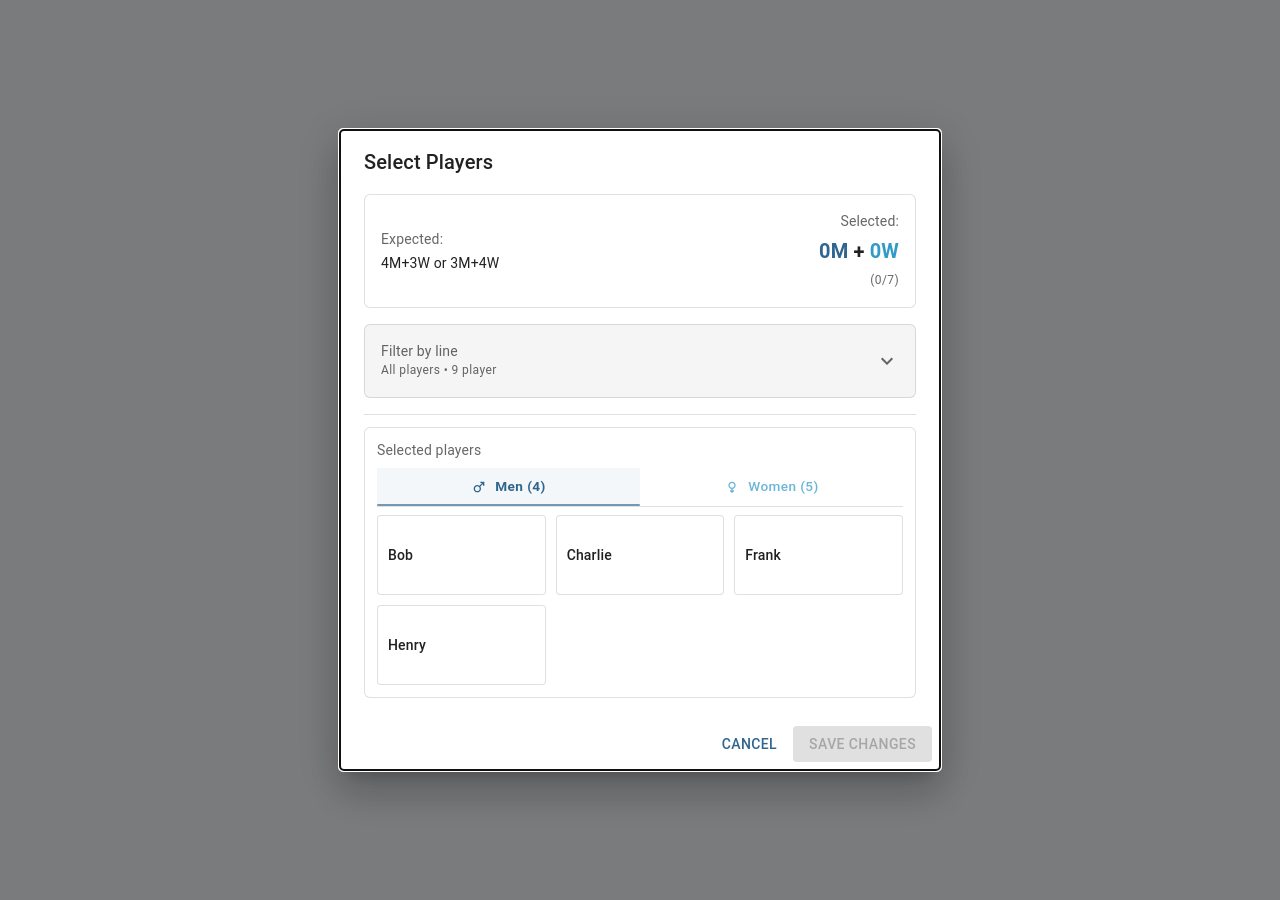
ManagePlayersDialog › Player Selection › allows toggling player selection
The image size is (1280, 900).
Expected: the text "(0/7)" is shown, x1=870 y1=273 x2=899 y2=287
# Click Bob to select (click the text which is part of ListItemButton)
Click the button "Bob".
click(461, 555)  # box x1=378 y1=516 x2=545 y2=594
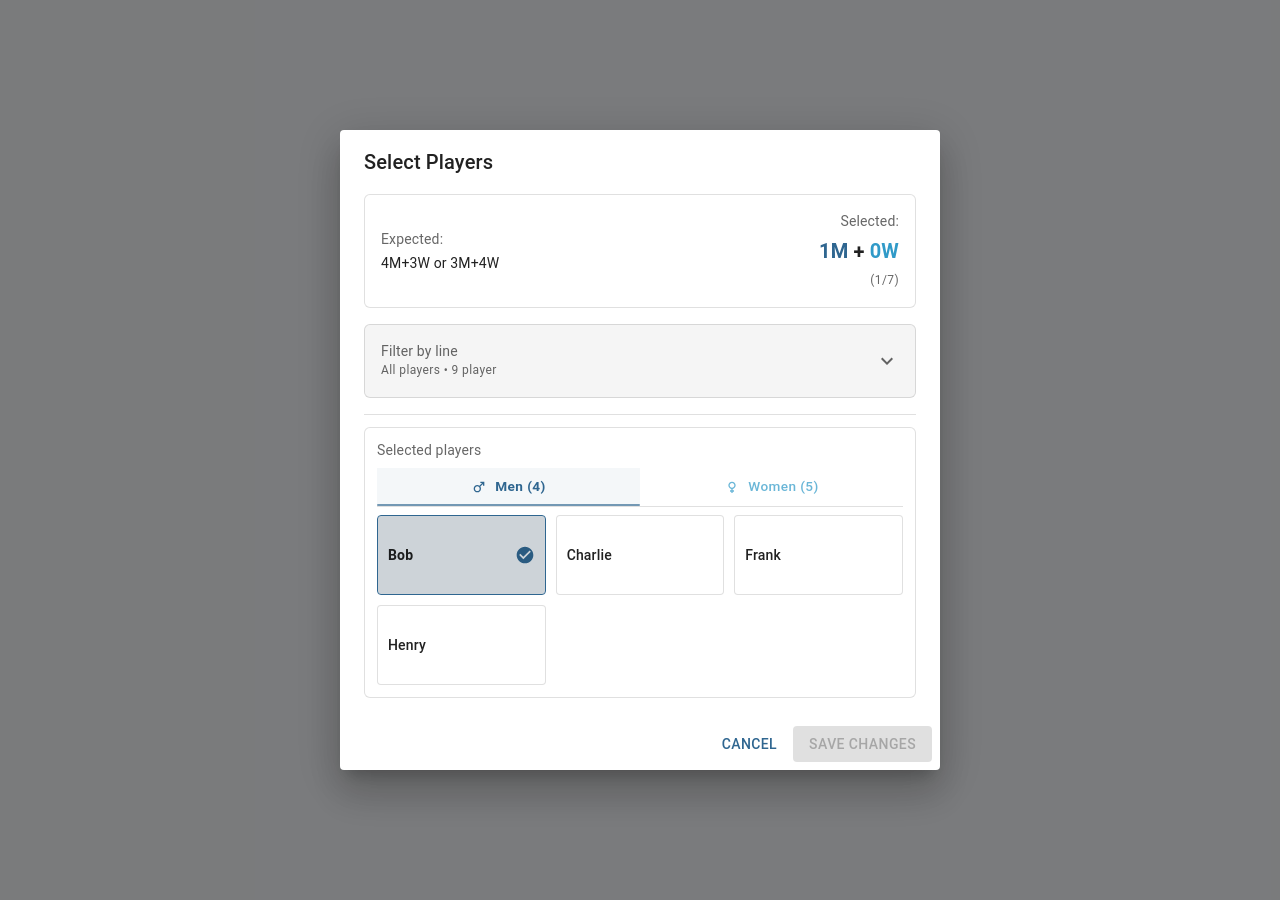
Result: the text "(1/7)" is shown at x1=870 y1=273 x2=899 y2=287
